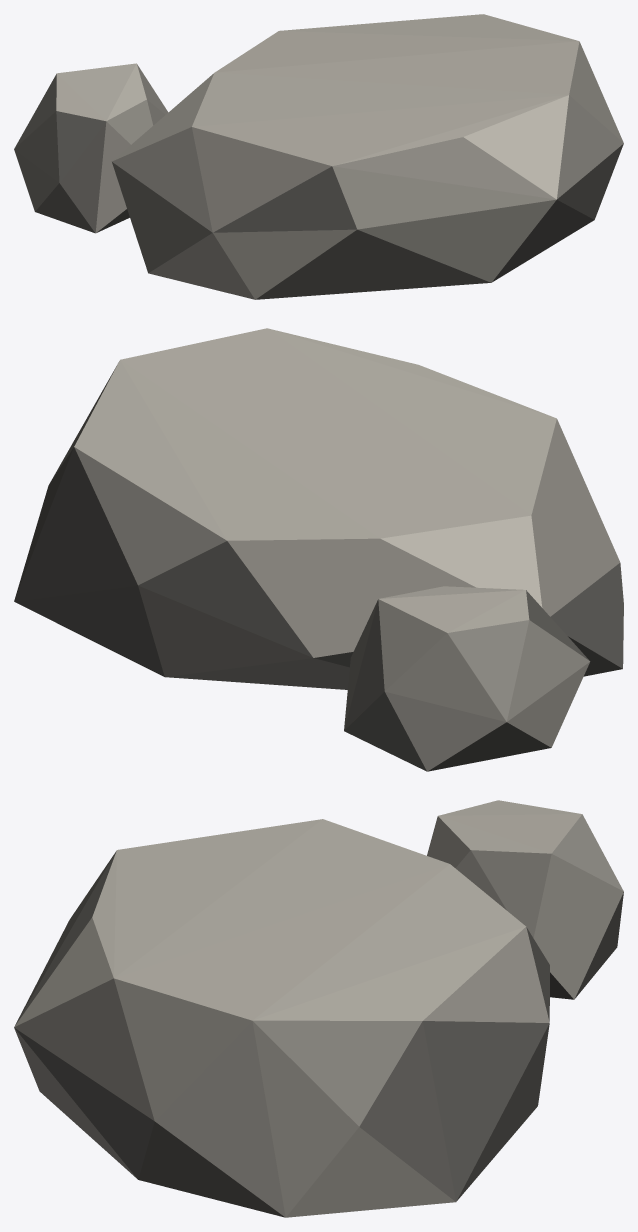
File: rock_c.glb
3 renders of one model, top to bottom at view 1: azimuth 30°, elevation 25°; view 2: azimuth 150°, elevation 25°; view 3: azimuth 270°, elevation 25°, orthographic. The views are drawn at different scales.
Visible parts, largest first — view 1: rock_c__mesh; view 2: rock_c__mesh; view 3: rock_c__mesh.
Part boxes in pixels (x1=…): rock_c__mesh: x1=14, y1=14, x2=623, y2=299; rock_c__mesh: x1=14, y1=328, x2=623, y2=771; rock_c__mesh: x1=14, y1=800, x2=623, y2=1217.
Bounding box in the file's own units: 2.5 × 0.6975 × 2.15.
1 material, 1 textured.
